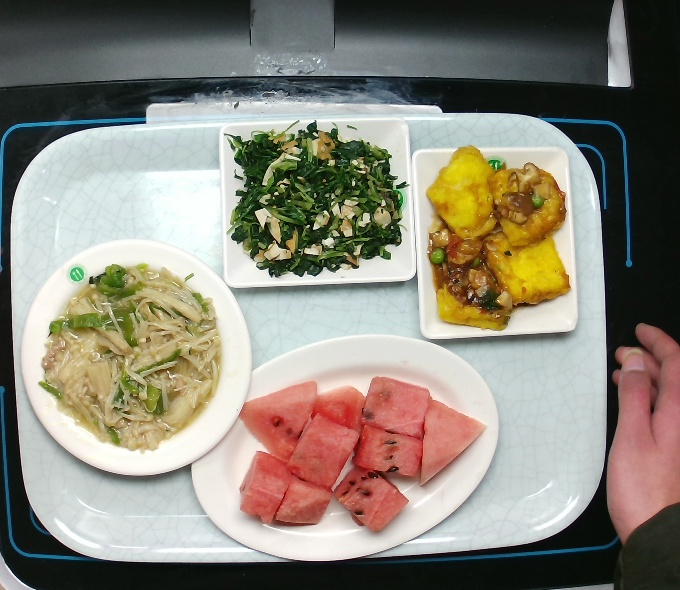wcq-CuiPiDouFu: (422, 143, 575, 335)
wcq-JinZhenGu: (34, 259, 227, 457)
wcq-MaLanTouChaoDouGan: (219, 118, 414, 280)
wcq-XiGua: (237, 370, 490, 535)
